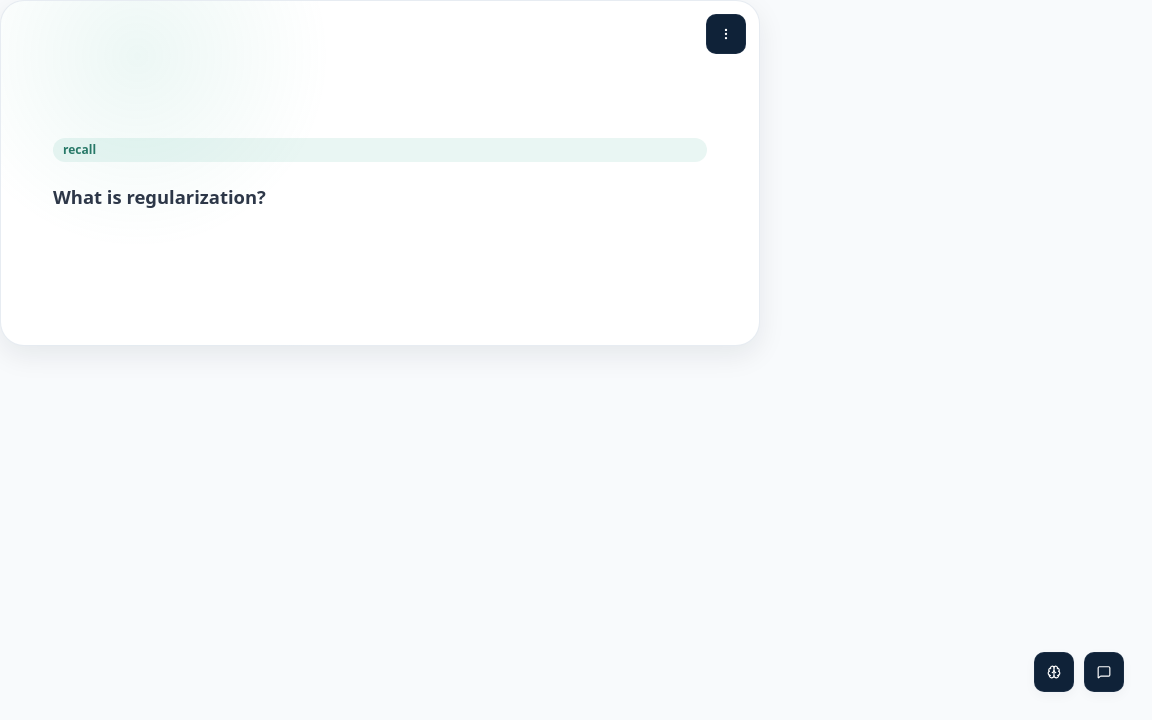
Test: ReviewSession › shows an actionable message for generic provider request failures
Click the button named "self-assessment". click: (1054, 672)
box: [1034,652,1074,692]
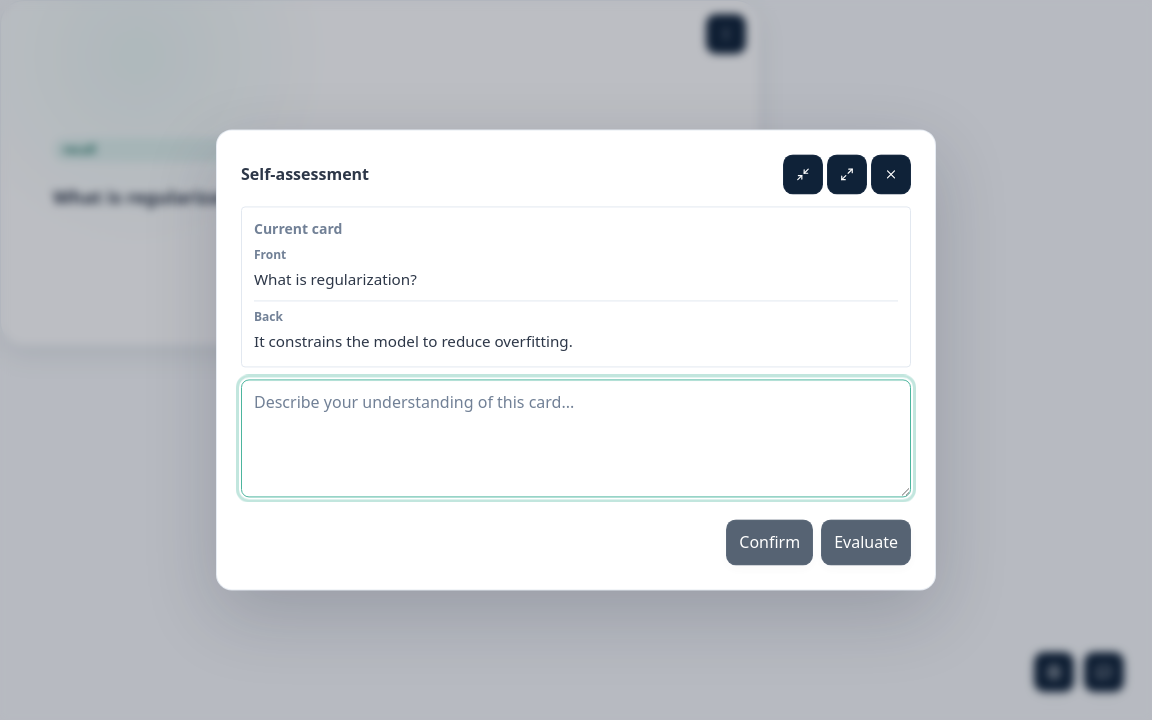
Type "It prevents overfitting by constraining the model." into the text box with placeholder "Describe your understanding of this card...". click: (576, 439)
box: [241,380,911,498]
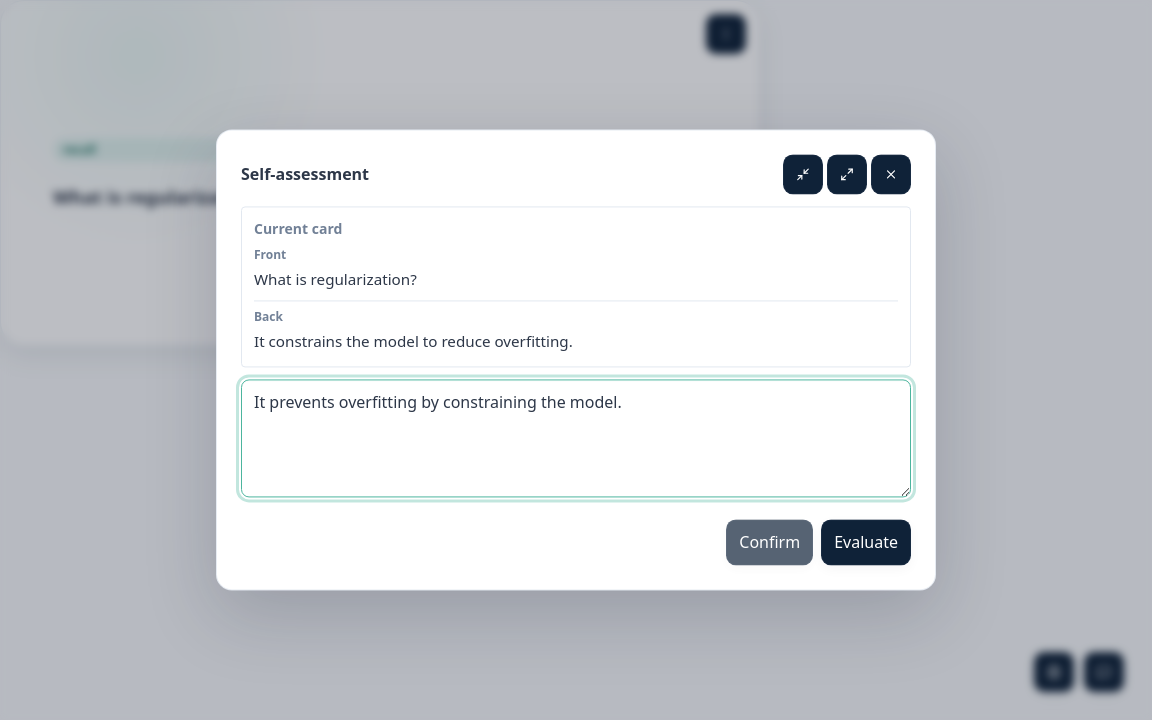
Click the button "Evaluate". click: (866, 543)
box: [821,520,911,566]
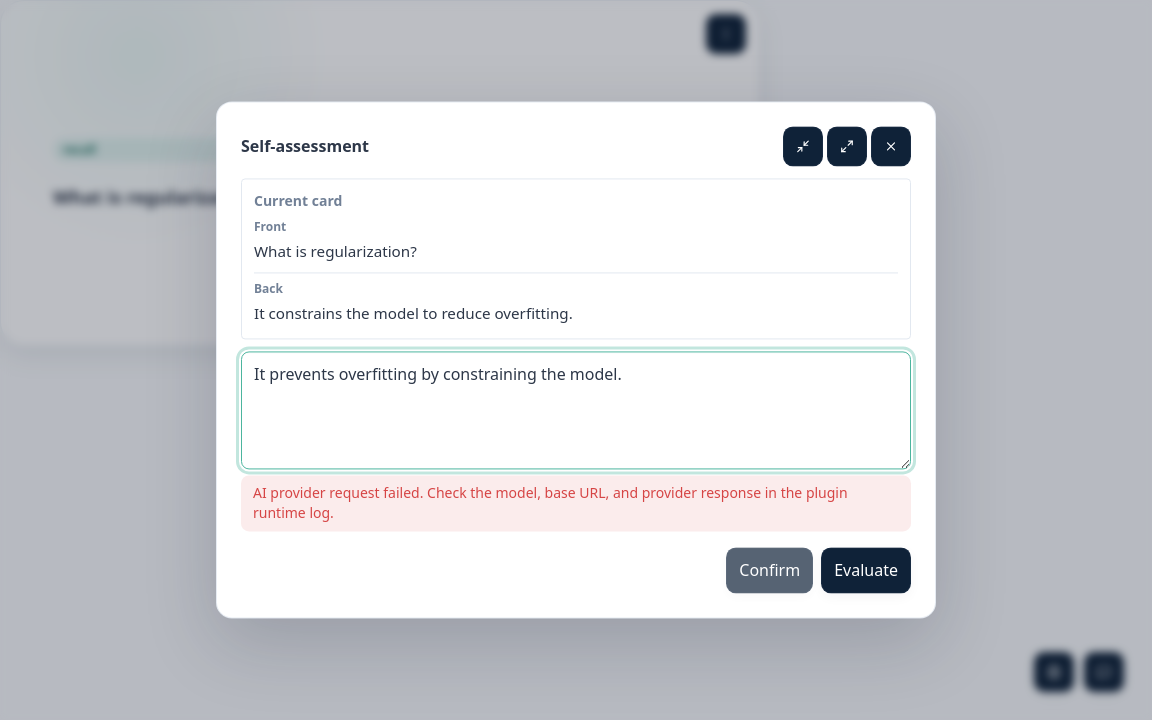
Check: the text "AI provider request failed" is shown, box [253,484,848,523]
